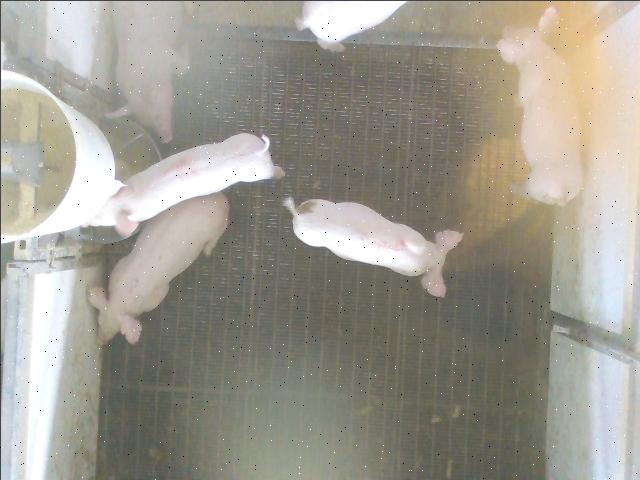pig-4: (82, 133, 282, 236)
pig-5: (282, 197, 462, 296)
